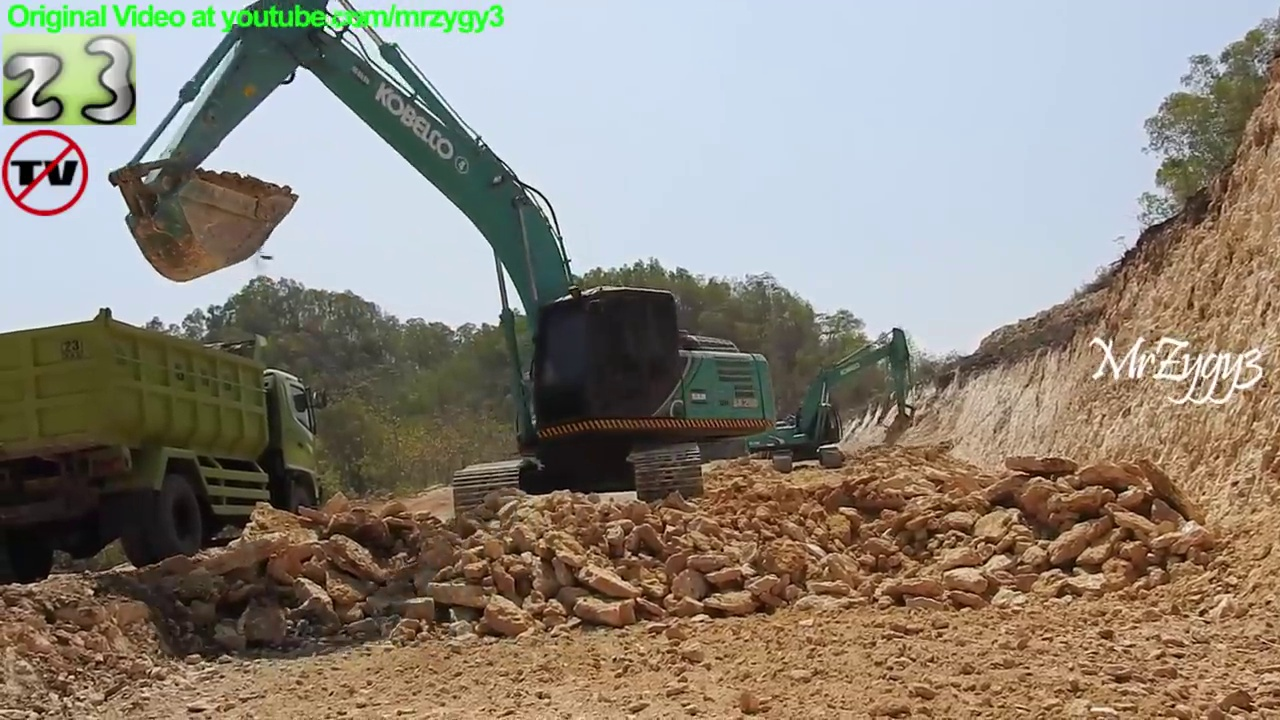excavator: (103, 1, 782, 530), (743, 324, 922, 476)
truck: (1, 302, 336, 590)
